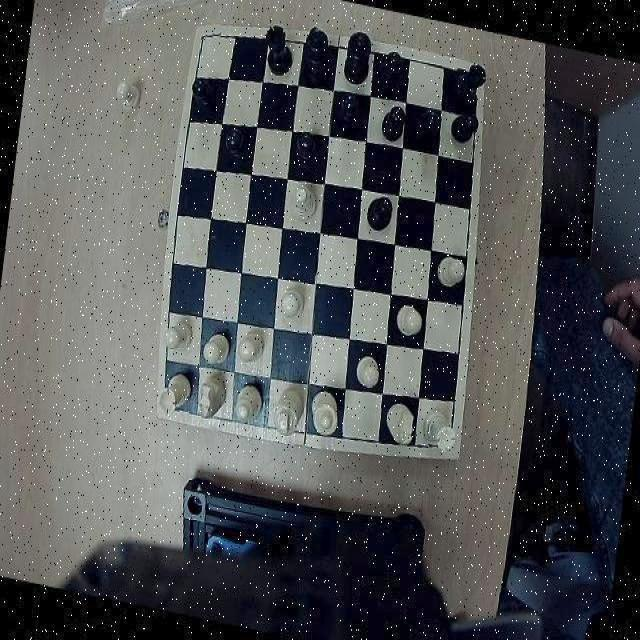chess-table-corners: (426, 424, 461, 460), (157, 390, 190, 424), (453, 63, 484, 97), (195, 19, 222, 52)
